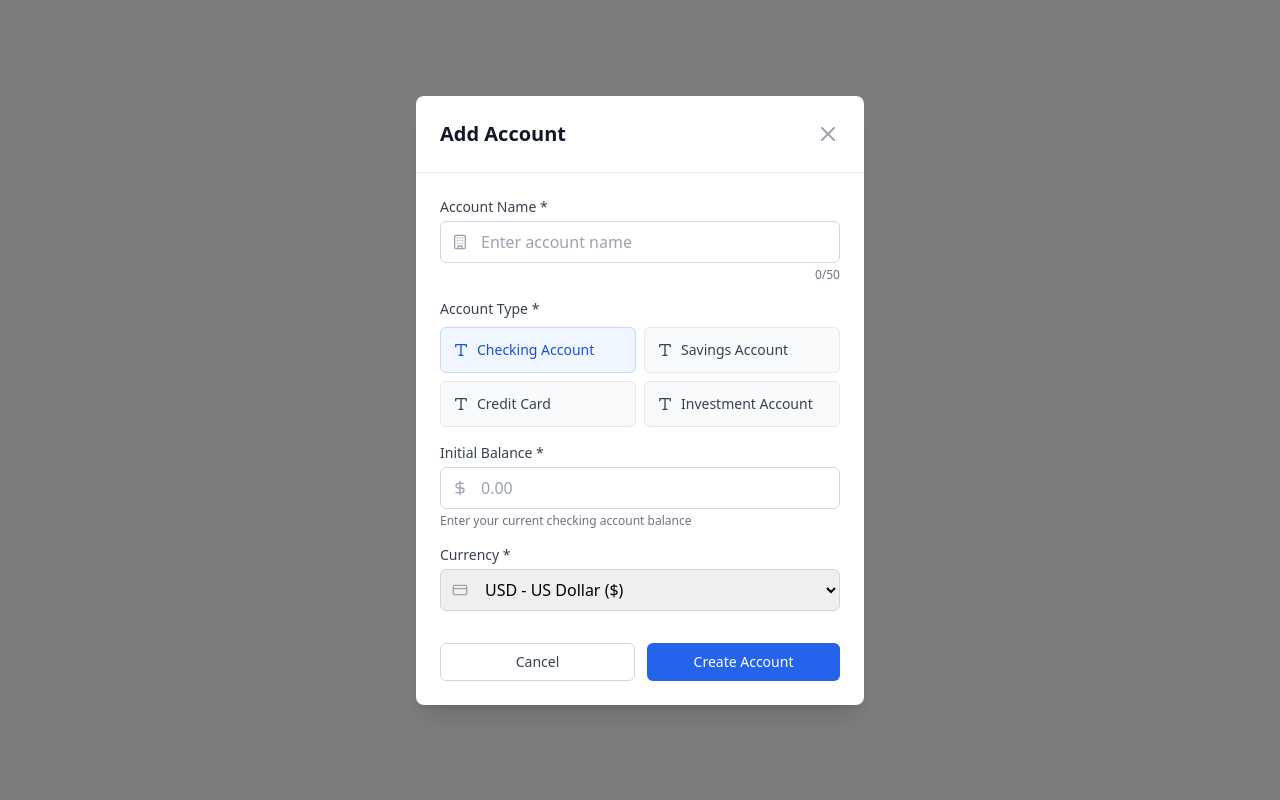
AccountForm › Account Type Selection › should show appropriate help text for each account type
Note: Test credit card help text
Click the button "Credit Card": coordinates (538, 404) [440,380,636,426]
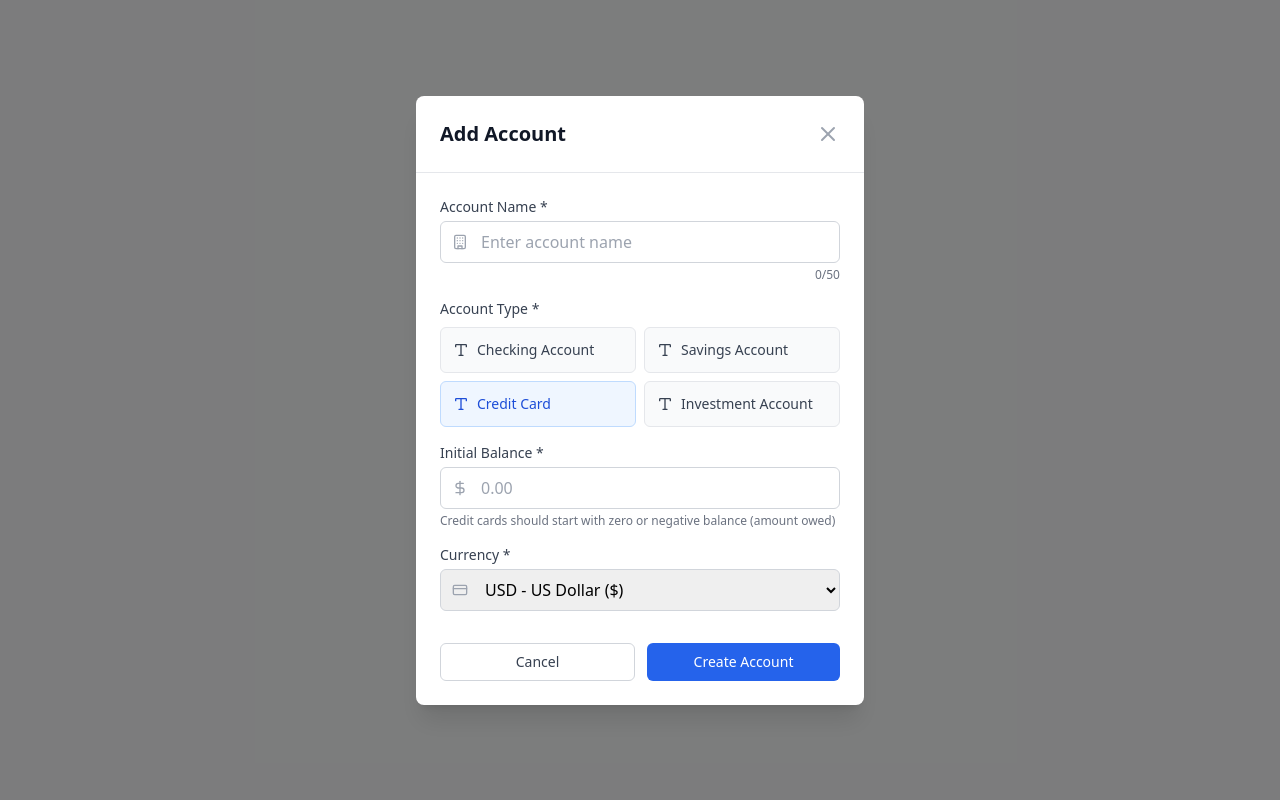
Expected: the text "Credit cards should start with zero or negative balance" is shown, [440,512,835,528]
Note: Test savings help text
Click the button "Savings Account": coordinates (742, 350) [644,326,840,372]
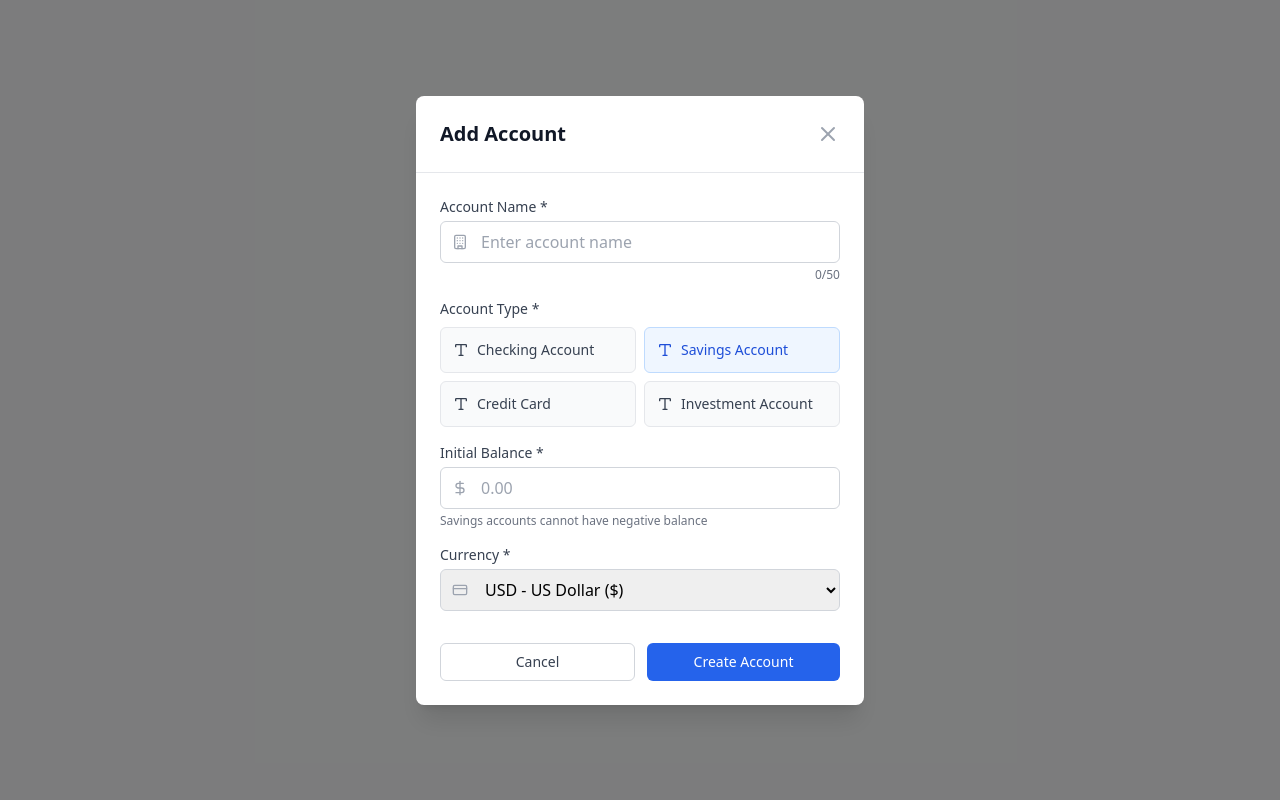
Expected: the text "Savings accounts cannot have negative balance" is shown, [440,512,708,528]
